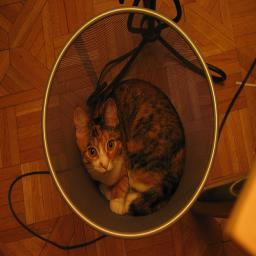catnose: (99, 160, 110, 170)
